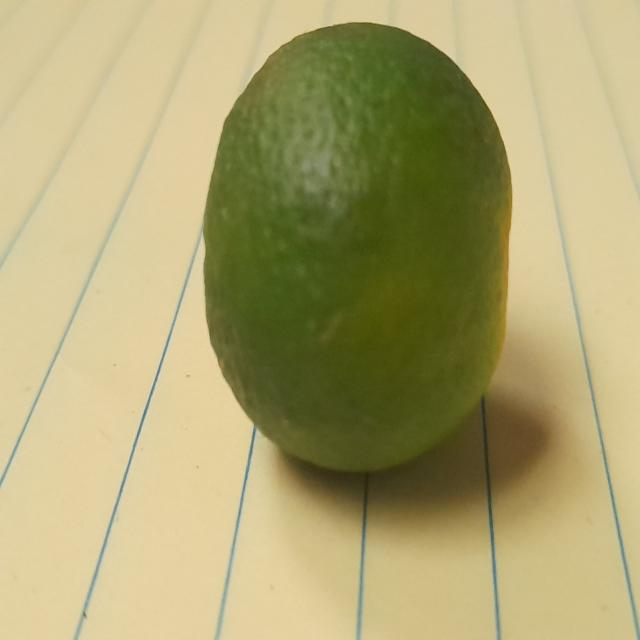heathy: (197, 23, 515, 481)
